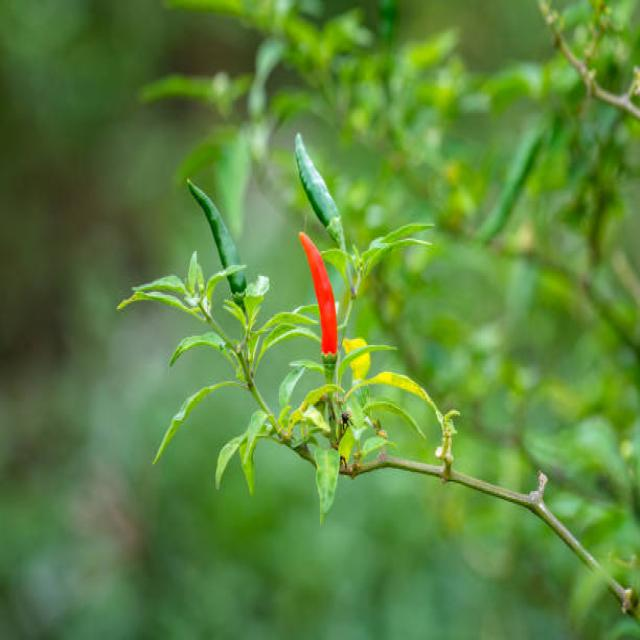Ripe: (300, 232, 337, 355)
Unripe: (188, 180, 251, 305), (295, 133, 340, 226)
